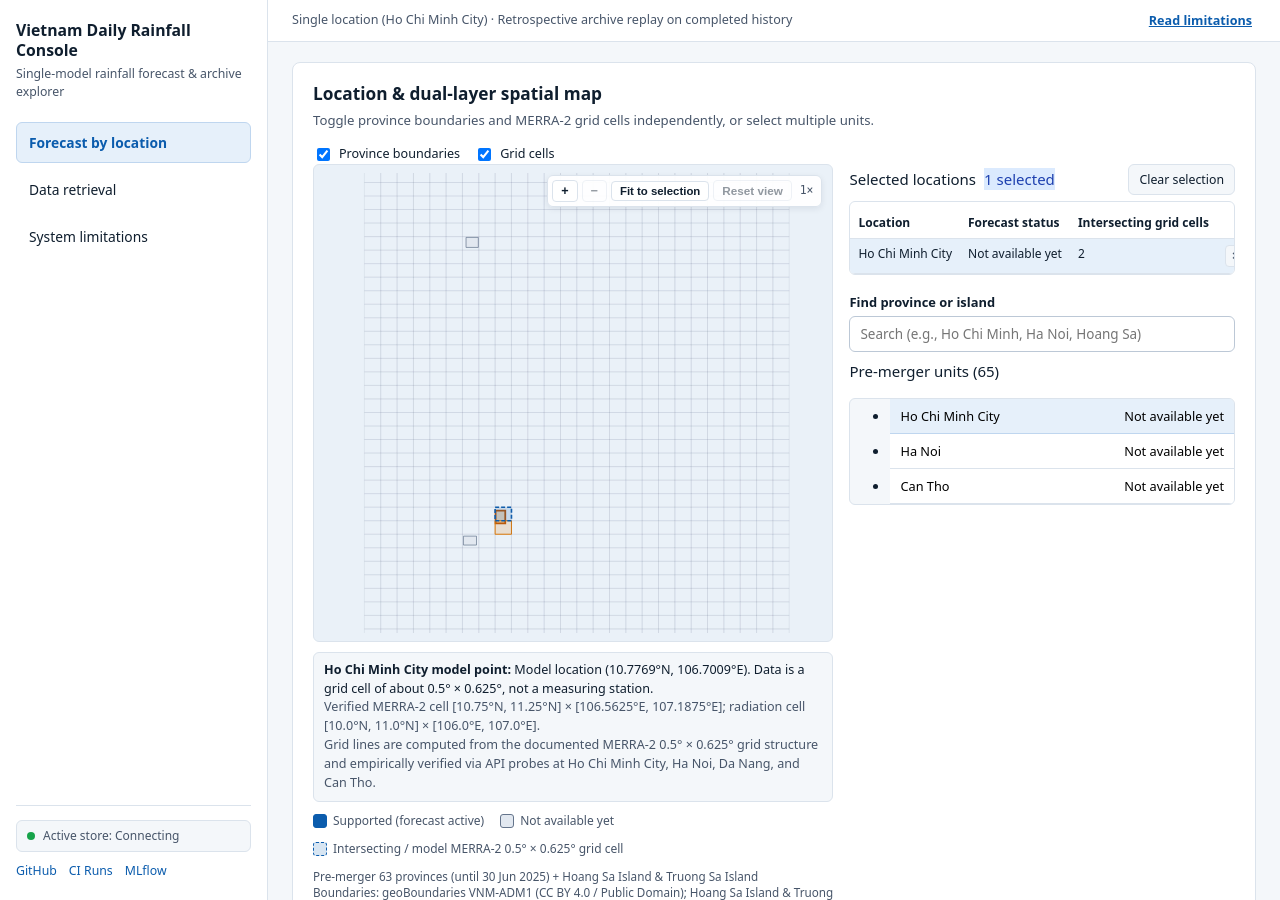
Scenario: Round 10 English SPA, Single-Model Main, 2-Layer Map & Data Retrieval › renders Tab 2 Data retrieval with 3 colored segments, NOT_PUBLISHED gaps, auto Weekly switch, pagination, CSV export & empty state
Click the button "Data retrieval" at {"x": 134, "y": 189}, box x1=16 y1=169 x2=251 y2=210
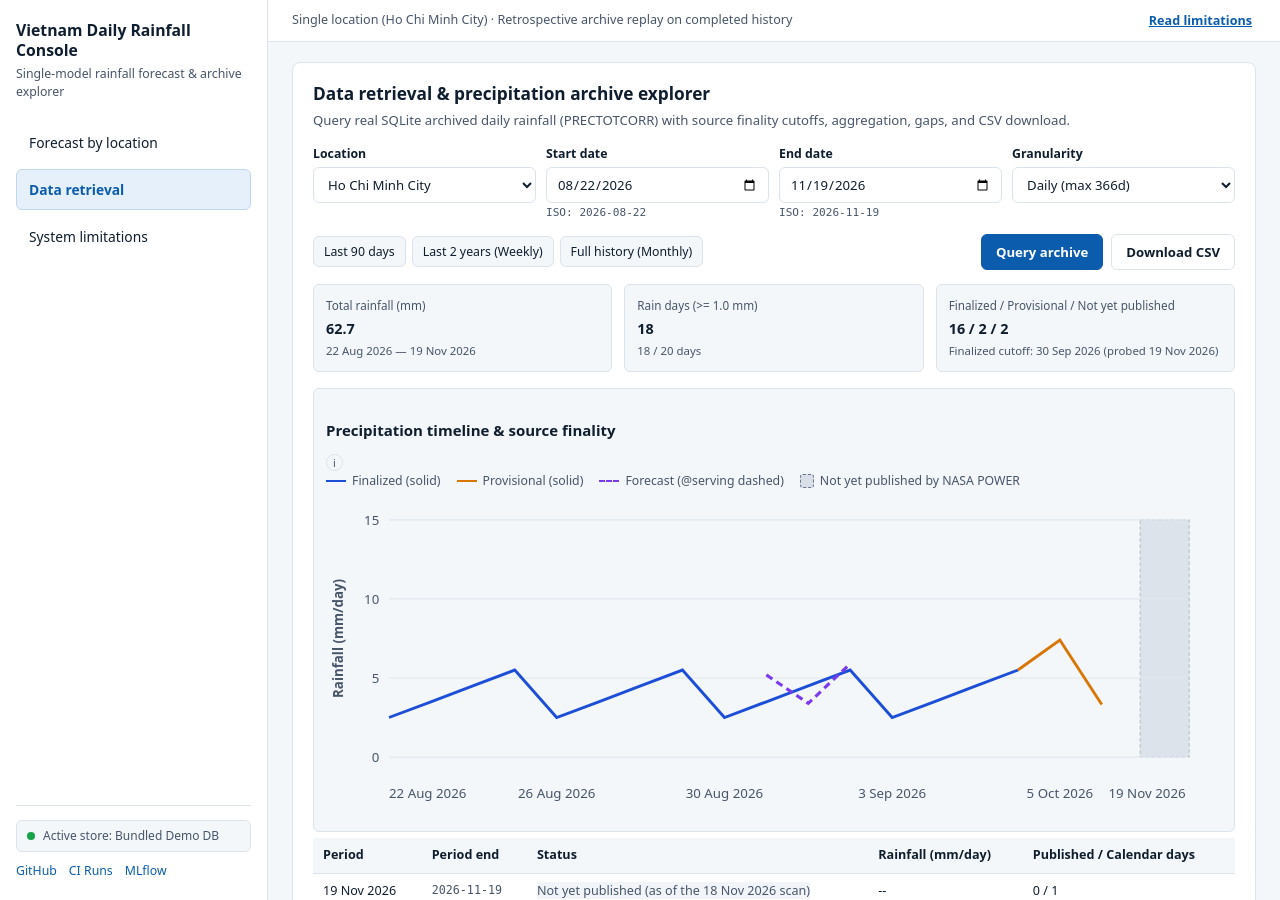
Now the picture with test id "observations-chart" is shown, box x1=326 y1=498 x2=1222 y2=813
Click the button "Last 2 years (Weekly)" at {"x": 483, "y": 252}, box x1=412 y1=236 x2=554 y2=267
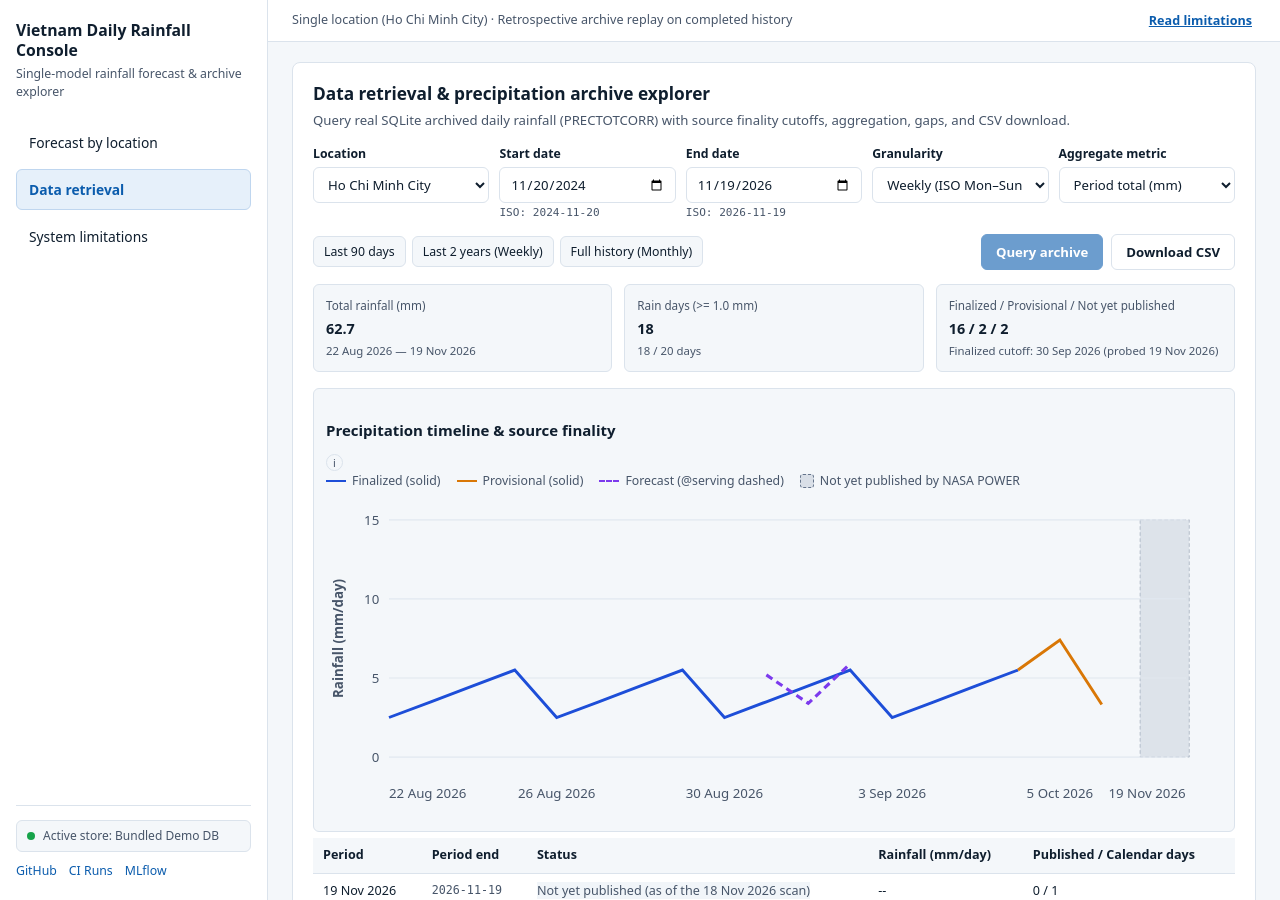
Now the dropdown labelled "Granularity" shows "Weekly (ISO Mon–Sun)", box x1=872 y1=167 x2=1049 y2=203
Empty state for unpopulated location HANOI
Select "Ha Noi" in the dropdown labelled "Location" at {"x": 401, "y": 185}, box x1=313 y1=167 x2=489 y2=203
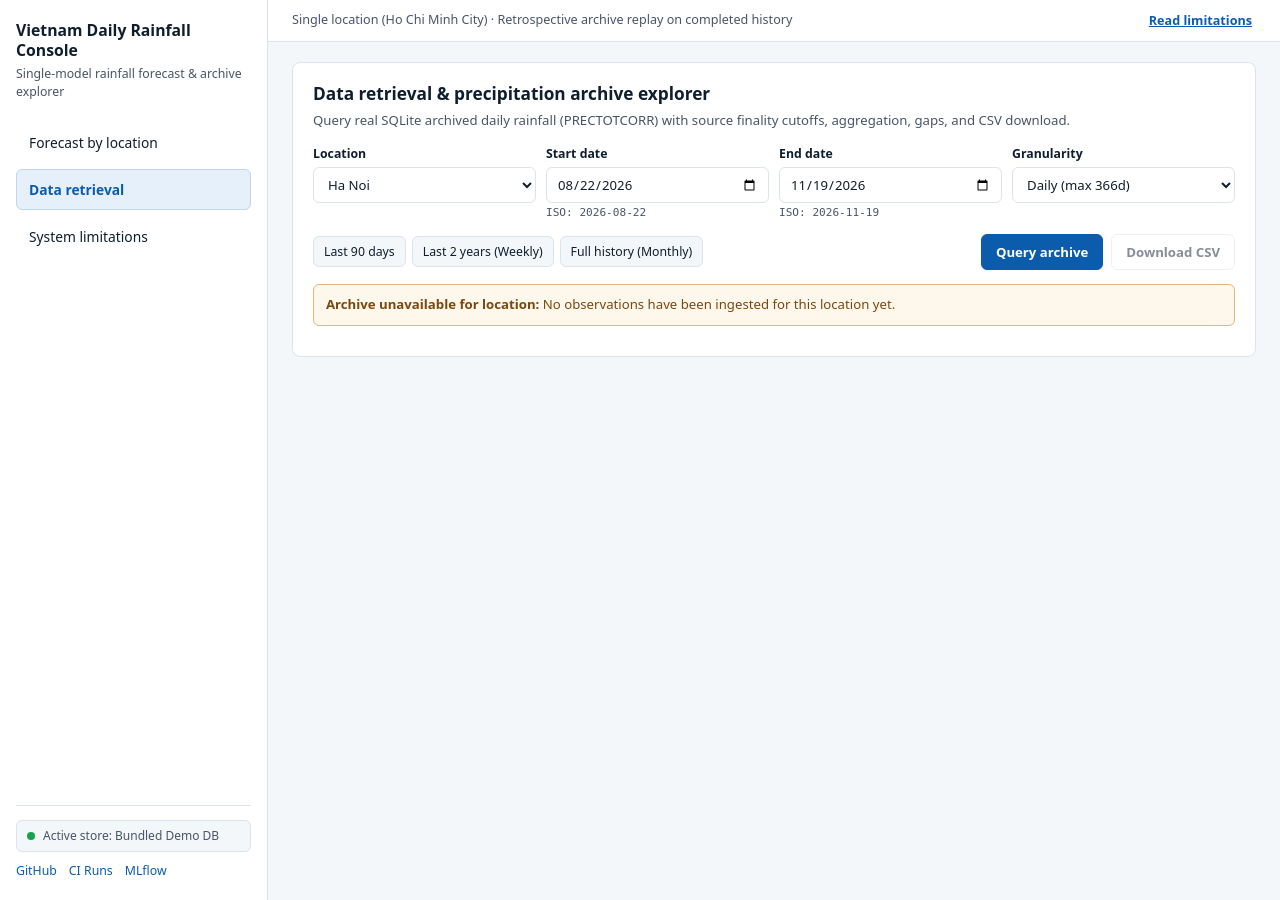
Now the text "No observations have been ingested for this location yet." is shown, box x1=543 y1=295 x2=895 y2=313
Verify CSV download button works and produces NASA POWER header
Select "Ho Chi Minh City" in the dropdown labelled "Location" at {"x": 424, "y": 185}, box x1=313 y1=167 x2=536 y2=203
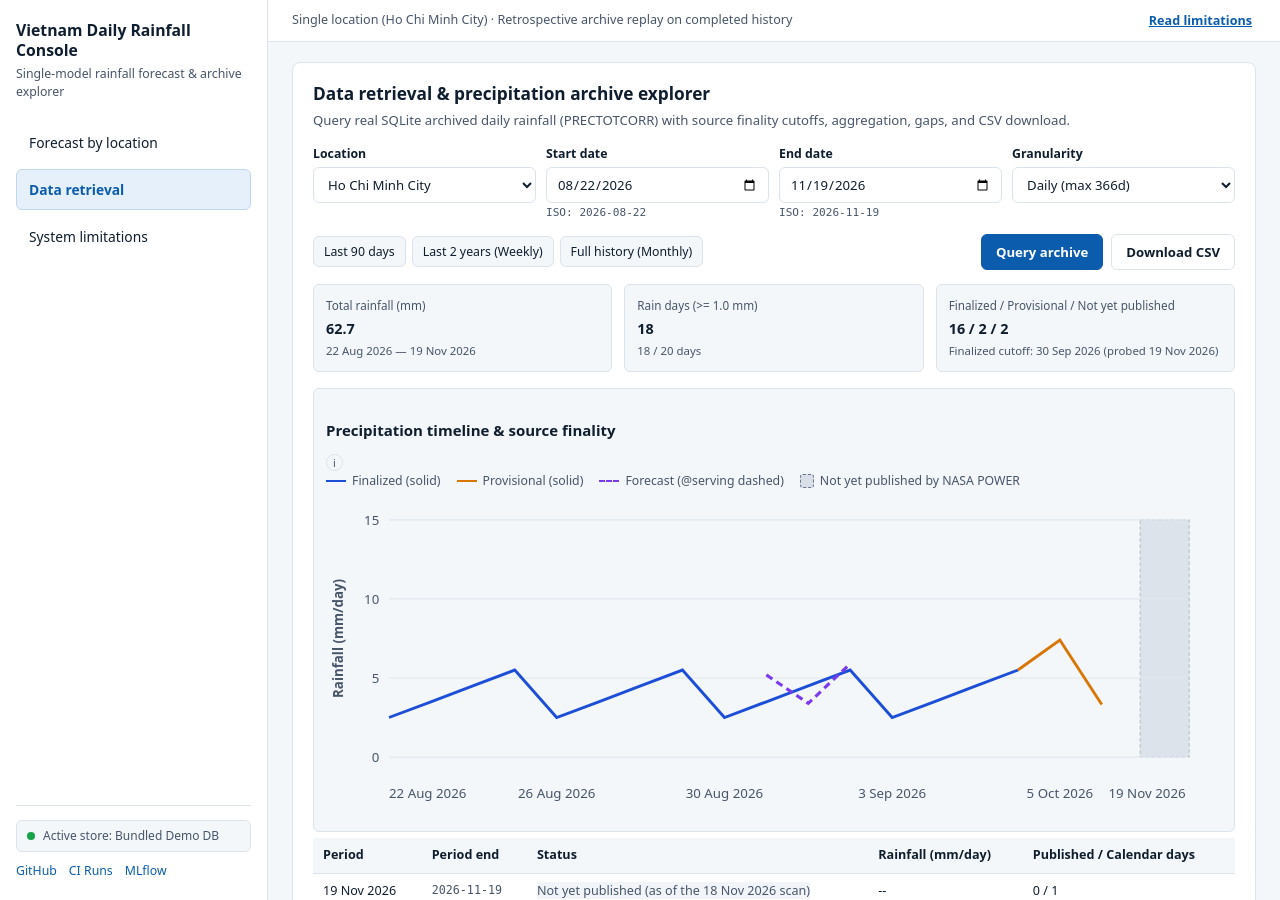
Now the button "Download CSV" is enabled, box x1=1111 y1=234 x2=1235 y2=270
